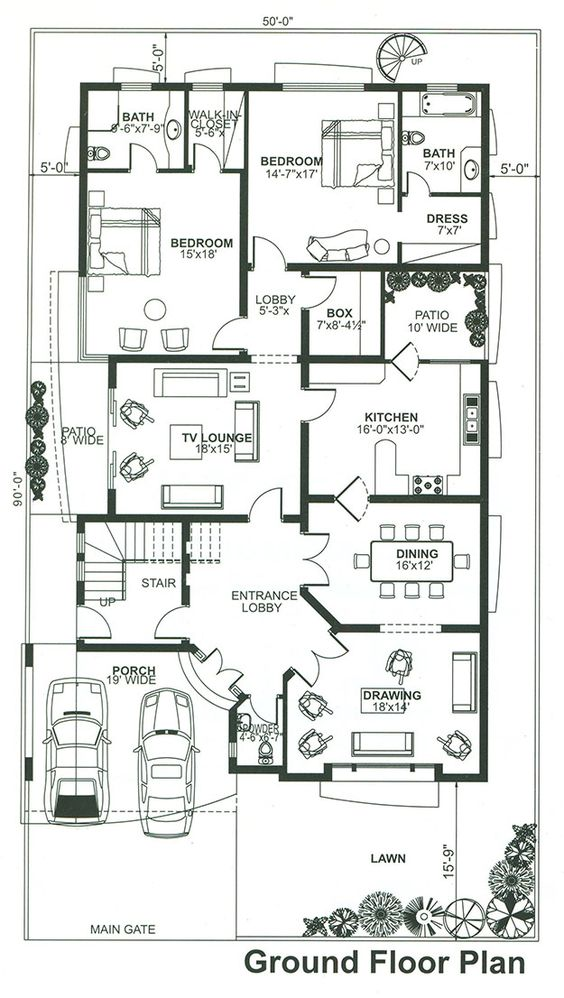door: (292, 633, 349, 688), (196, 644, 245, 691), (302, 530, 338, 591), (307, 274, 345, 310), (206, 315, 241, 352), (304, 386, 339, 423), (249, 484, 284, 521), (76, 604, 111, 641), (151, 605, 186, 642), (248, 232, 289, 261), (125, 140, 159, 169), (191, 138, 225, 167), (403, 166, 430, 193)
room: (75, 167, 248, 361), (300, 355, 487, 503)
window: (281, 82, 365, 91), (425, 81, 458, 91), (120, 82, 152, 91), (191, 82, 223, 91)
